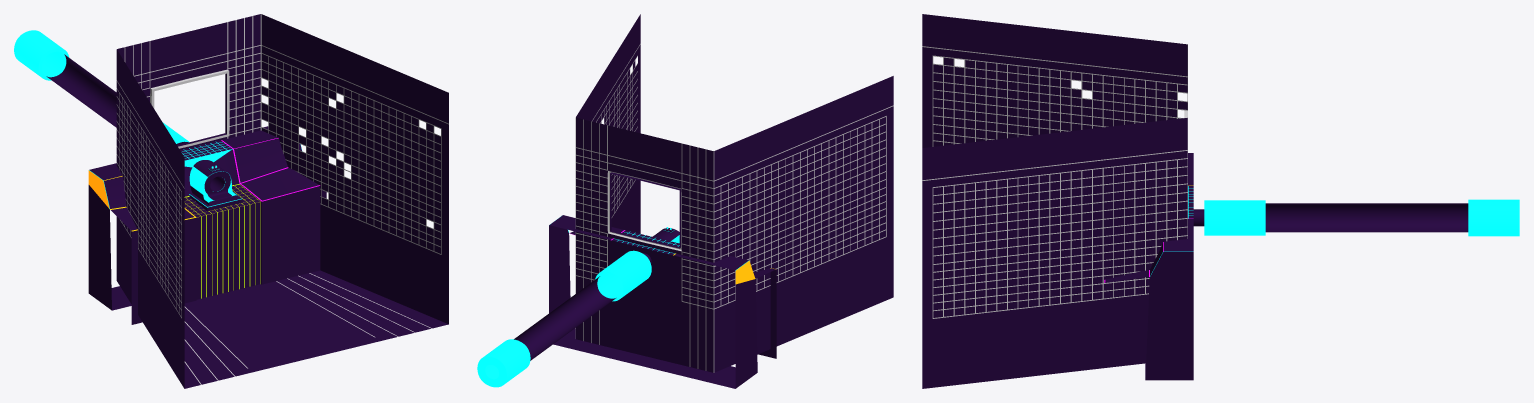
Rendered from turret_pov.fbx.
3 views of the same model, side by side, from view 1: azimuth 30°, elevation 25°; view 2: azimuth 150°, elevation 25°; view 3: azimuth 270°, elevation 25° (orthographic). The views are drawn at different scales.
Visible parts, largest first — view 1: turret room, Cube, loading port; view 2: turret room, Cube, loading port; view 3: turret room, loading port, Cube.
Boxes of the visible parts, x1,y1,x2,y2 form: turret room: (116, 14, 448, 388); Cube: (88, 126, 326, 324); loading port: (14, 30, 237, 205); turret room: (575, 14, 893, 372); Cube: (549, 215, 776, 388); loading port: (477, 228, 679, 387); turret room: (922, 14, 1187, 388); loading port: (1193, 199, 1519, 236); Cube: (1104, 153, 1193, 380).
Size of the model in its own units: 507 by 440 by 954.
